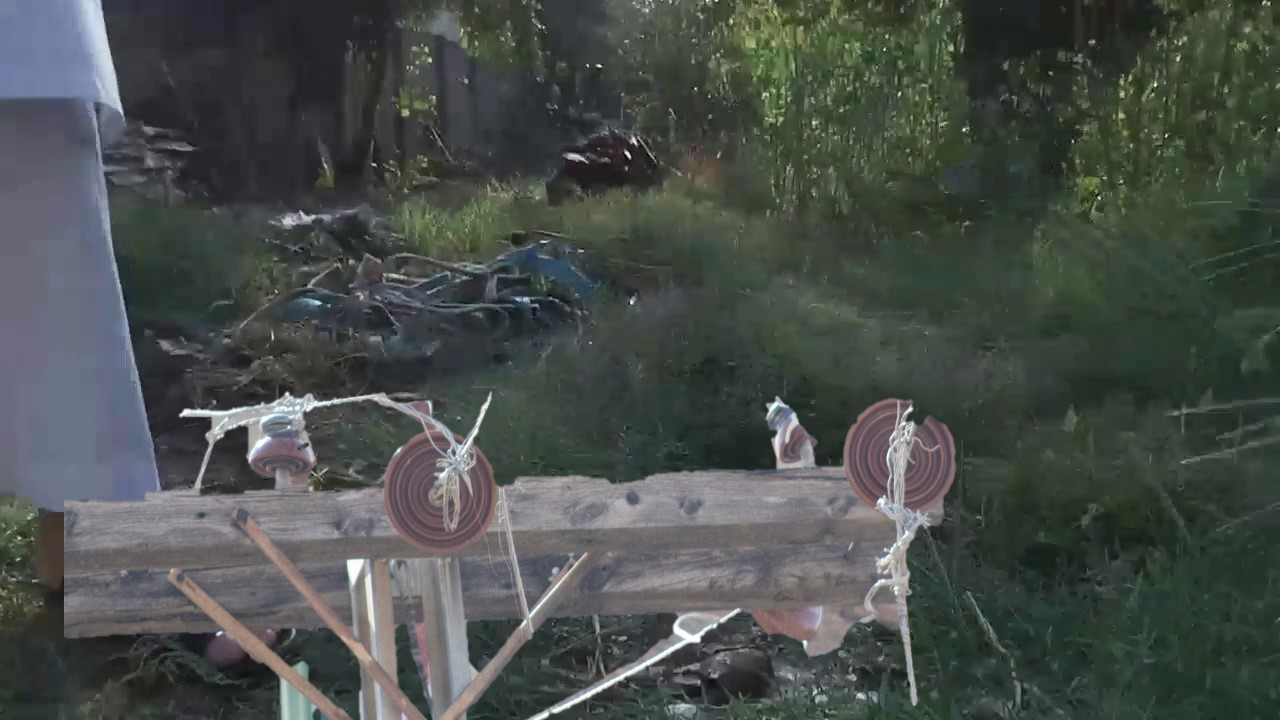defect_pin: (760, 390, 823, 475)
insulator_disc: (379, 427, 499, 556), (844, 391, 959, 514)
insulator_pin: (244, 408, 320, 484)
